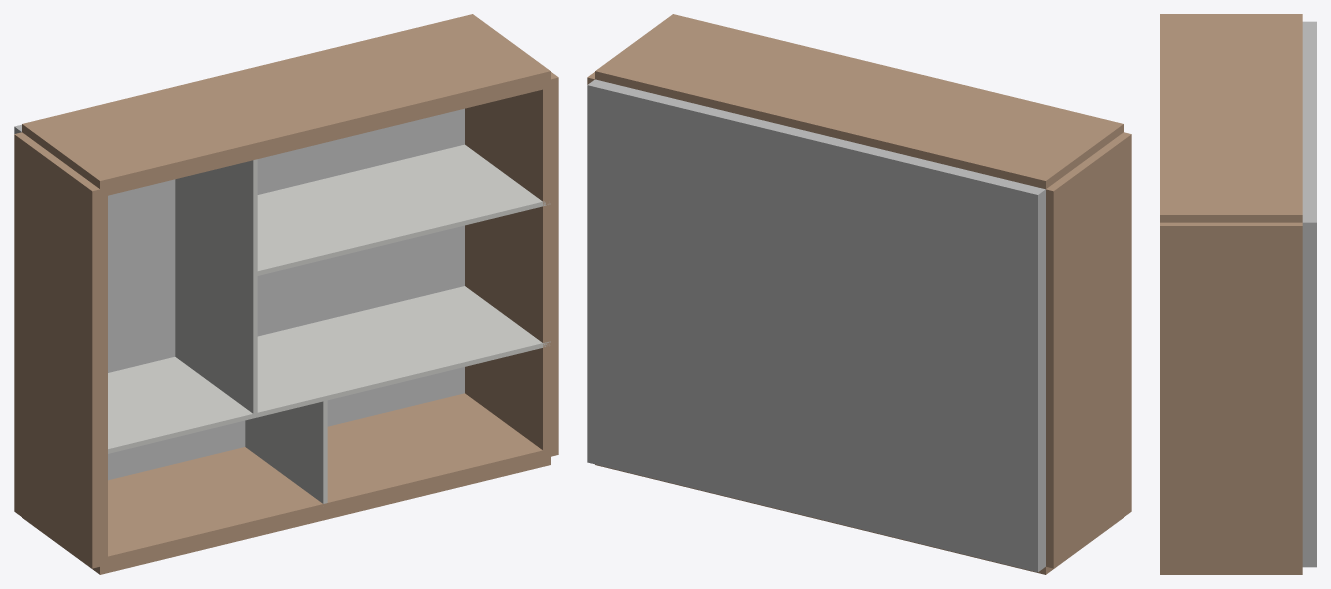
The picture shows the model from 3 angles, left to right: view 1: azimuth 30°, elevation 25°; view 2: azimuth 150°, elevation 25°; view 3: azimuth 270°, elevation 25°; orthographic projection. The views are drawn at different scales.
Parts seen in each view (by area): view 1: wall_2, floor_slab, wall_3, wall_0, wall_1, wall_6, wall_5, wall_4, wall_7, wall_8, wall_9; view 2: floor_slab, wall_2, wall_3, wall_0; view 3: wall_1, wall_2, floor_slab, wall_0.
Boxes of the visible parts, box(x1,y1,x2,y2) form: wall_2: box(22, 14, 550, 197); floor_slab: box(14, 108, 464, 480); wall_3: box(14, 132, 107, 568); wall_0: box(22, 393, 550, 574); wall_1: box(465, 72, 558, 456); wall_6: box(255, 286, 550, 417); wall_5: box(255, 144, 550, 275); wall_4: box(175, 218, 257, 415); wall_7: box(175, 159, 257, 415); wall_8: box(108, 357, 255, 453); wall_9: box(245, 398, 327, 503); floor_slab: box(587, 79, 1045, 572); wall_2: box(595, 14, 1123, 189); wall_3: box(1046, 132, 1131, 568); wall_0: box(595, 464, 1123, 574); wall_1: box(1160, 222, 1302, 570); wall_2: box(1160, 14, 1302, 222); floor_slab: box(1302, 21, 1316, 567); wall_0: box(1160, 571, 1302, 574).
Bounding box in the file's own units: 10.35 × 8.35 × 3.3.
